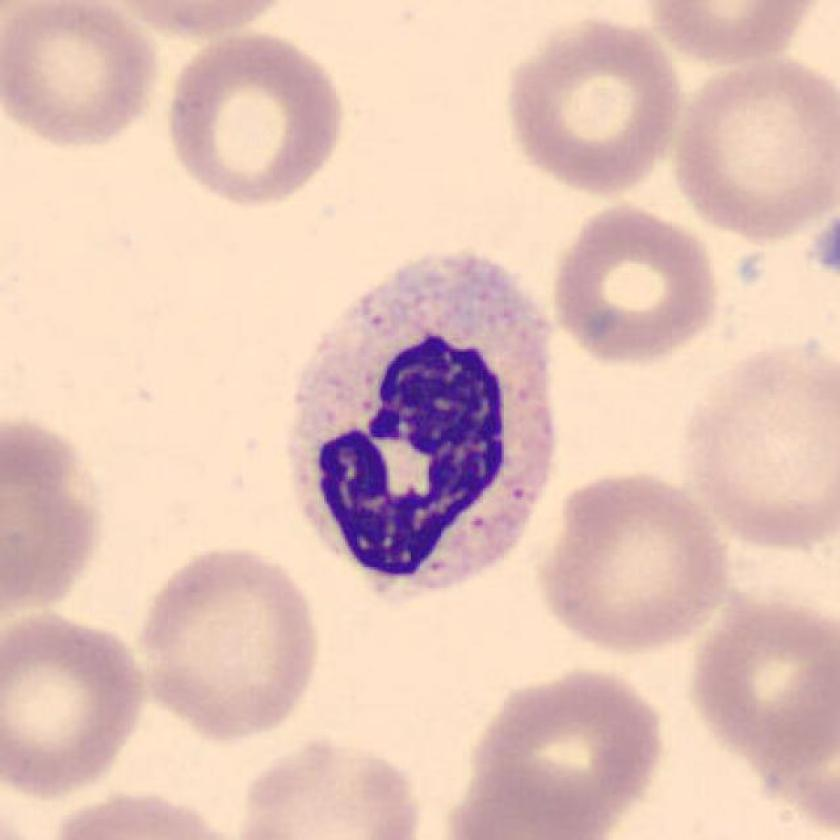neutrophil: (285, 254, 554, 593)
